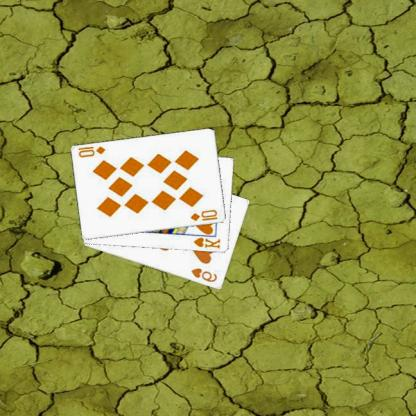10D: (77, 143, 109, 159), (190, 207, 221, 222)
6H: (191, 265, 220, 284)
KH: (192, 235, 224, 250)
